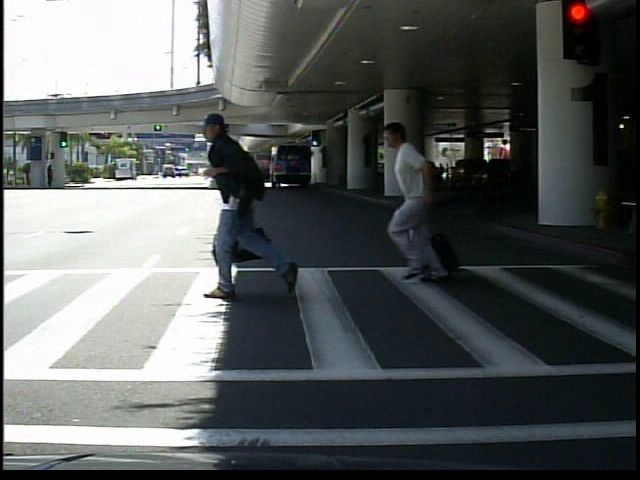person: (200, 115, 286, 301), (390, 112, 453, 283)
